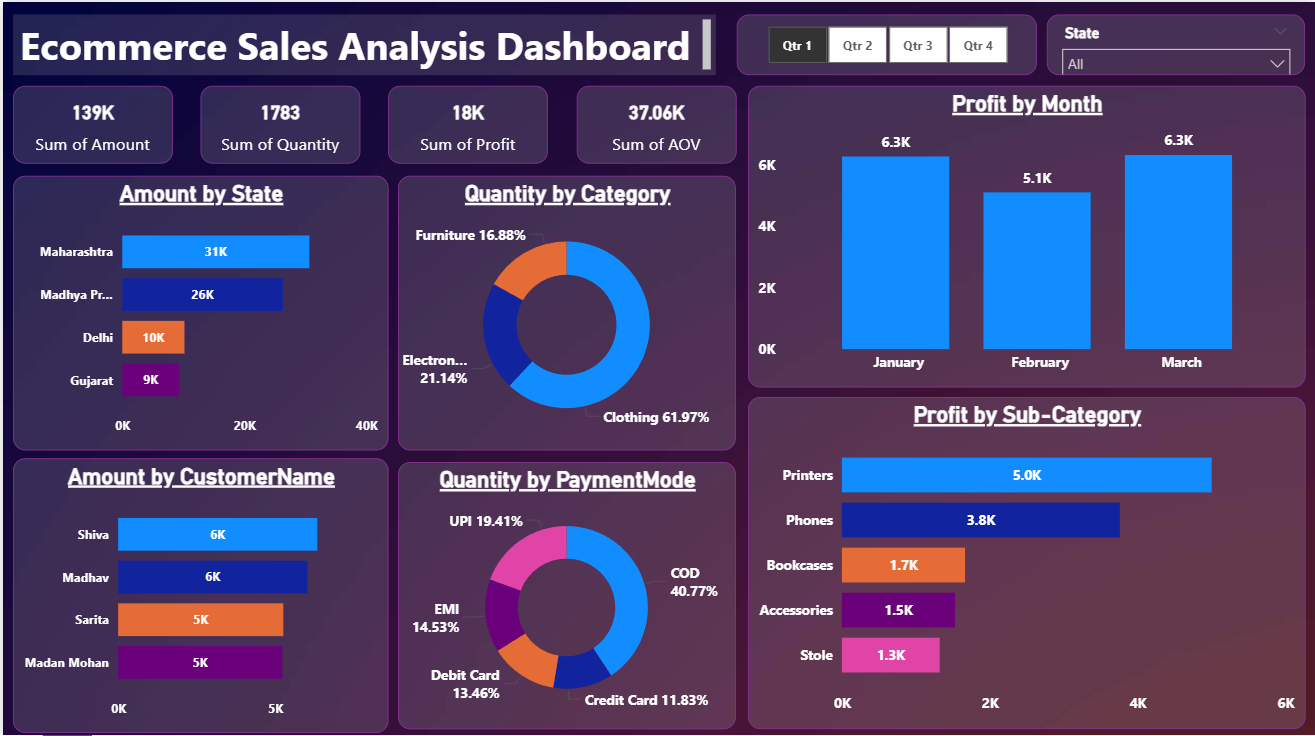

This screenshot's page, from the dashboard's own definition file:
{"tool":"powerbi","page":{"name":"Page 1","canvas":[1280,720],"ordinal":0},"visuals":[{"type":"columnChart","title":"Profit by Month","fields":{"Category":["Orders.Order Date.Variation.Date Hierarchy.Month"],"Y":["Sum(Details.Profit)"]},"box":[726.8,81.7,543.7,294.4],"z":0},{"type":"textbox","box":[9.9,12.7,685.9,59.2],"z":1000},{"type":"barChart","title":"Profit by Sub-Category ","fields":{"Y":["Sum(Details.Profit)"],"Category":["Details.Sub-Category"],"Series":["Details.Sub-Category"]},"box":[726.8,385.9,543.7,323.9],"z":2000},{"type":"donutChart","title":"Quantity by Category","fields":{"Series":["Details.Category"],"Y":["Sum(Details.Quantity)"]},"box":[385.9,169,329.6,267.6],"z":3000},{"type":"donutChart","title":"Quantity by PaymentMode","fields":{"Y":["Sum(Details.Quantity)"],"Series":["Details.PaymentMode"]},"box":[385.9,449.3,329.6,260.6],"z":4000},{"type":"card","fields":{"Values":["Sum(Details.Amount)"]},"box":[9.9,81.7,156.3,76.1],"z":5000},{"type":"card","fields":{"Values":["Sum(Details.Quantity)"]},"box":[193,81.7,156.3,76.1],"z":6000},{"type":"card","fields":{"Values":["Sum(Details.Profit)"]},"box":[376.1,81.7,156.3,76.1],"z":7000},{"type":"card","fields":{"Values":["Sum(Details.AOV)"]},"box":[559.2,81.7,156.3,76.1],"z":8000},{"type":"barChart","title":"Amount by State ","fields":{"Category":["Orders.State"],"Y":["Sum(Details.Amount)"],"Series":["Orders.State"]},"box":[9.9,169,366.2,267.6],"z":9000},{"type":"barChart","title":"Amount by CustomerName ","fields":{"Y":["Sum(Details.Amount)"],"Category":["Orders.CustomerName"],"Series":["Orders.CustomerName"]},"box":[9.9,445.1,366.2,267.6],"z":10000},{"type":"slicer","fields":{"Values":["Orders.Order Date.Variation.Date Hierarchy.Quarter"]},"box":[715.5,12.7,293,59.2],"z":11000},{"type":"slicer","fields":{"Values":["Orders.State"]},"box":[1018.3,12.7,252.1,59.2],"z":12000}]}

Visuals, with their boxes in screenshot pixels (x1, y1, x2, y2), scaled from the page's 1280x720 canvas onto the 1315x736 screenshot:
"Profit by Month" columnChart: box(747, 84, 1305, 384)
textbox: box(10, 13, 715, 73)
"Profit by Sub-Category " barChart: box(747, 394, 1305, 726)
"Quantity by Category" donutChart: box(396, 173, 735, 446)
"Quantity by PaymentMode" donutChart: box(396, 459, 735, 726)
card - Sum(Details.Amount): box(10, 84, 171, 161)
card - Sum(Details.Quantity): box(198, 84, 359, 161)
card - Sum(Details.Profit): box(386, 84, 547, 161)
card - Sum(Details.AOV): box(574, 84, 735, 161)
"Amount by State " barChart: box(10, 173, 386, 446)
"Amount by CustomerName " barChart: box(10, 455, 386, 729)
slicer - Orders.Order Date.Variation.Date Hierarchy.Quarter: box(735, 13, 1036, 73)
slicer - Orders.State: box(1046, 13, 1305, 73)
